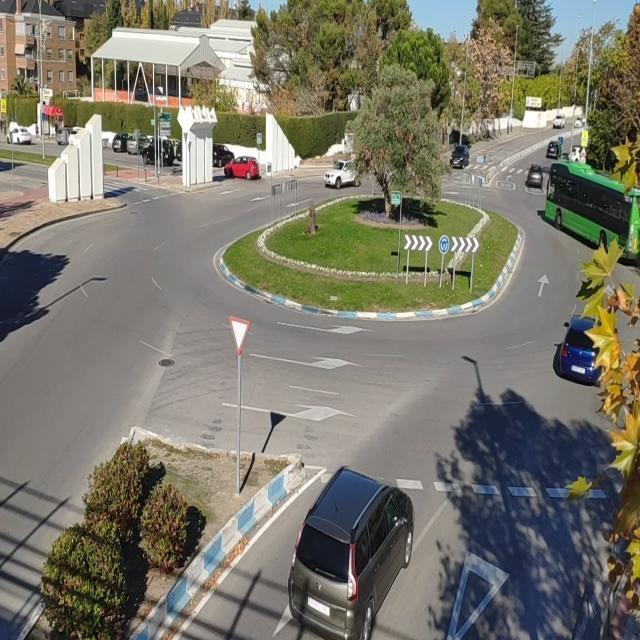Bus: (545, 160, 640, 260)
Car: (323, 158, 362, 188), (225, 156, 259, 178), (448, 144, 470, 169), (527, 163, 543, 187)
Van: (289, 466, 415, 638)
